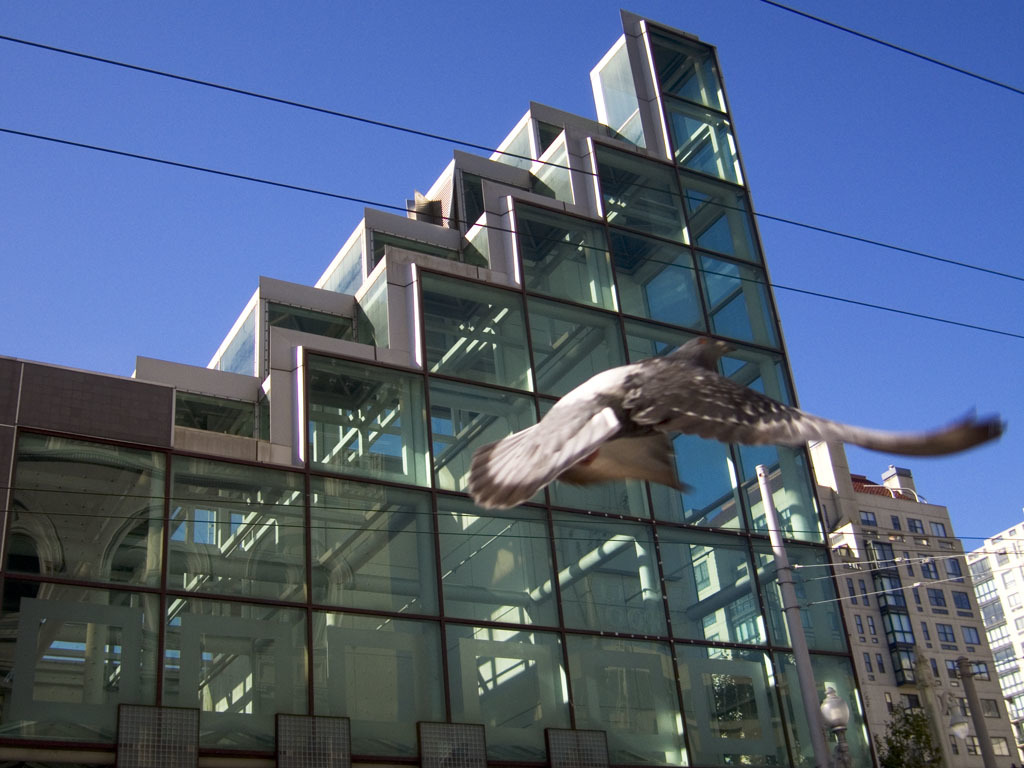Animal: (462, 328, 1010, 511)
